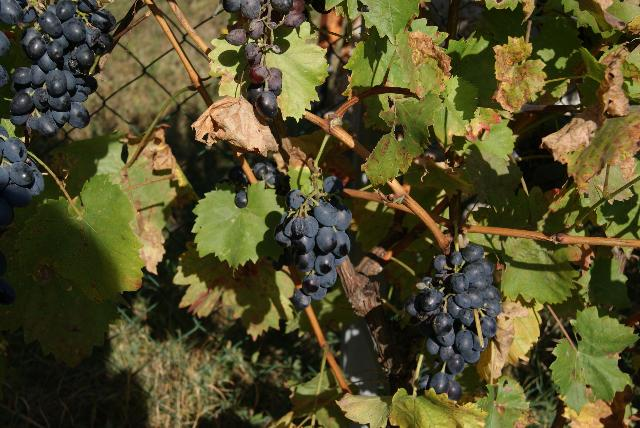grapes: (405, 244, 502, 401), (275, 176, 351, 308), (222, 0, 305, 119)
